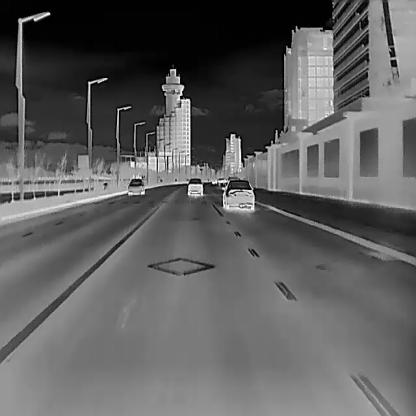car: (220, 180, 254, 209), (126, 176, 144, 196), (186, 177, 202, 196)
